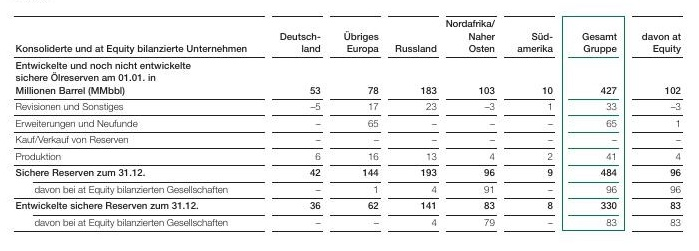table: (0, 0, 699, 251)
